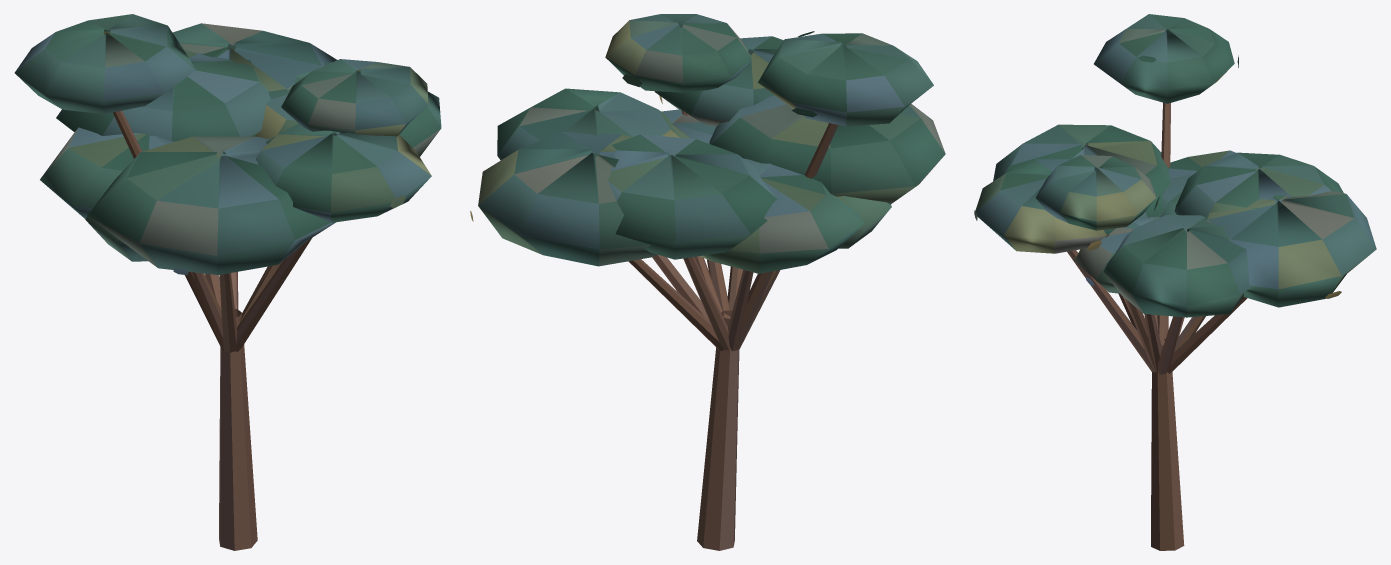
Rendered from HK_Tree_Pine.lod.glb.
3 renders of one model, left to right at view 1: azimuth 30°, elevation 25°; view 2: azimuth 150°, elevation 25°; view 3: azimuth 270°, elevation 25°, orthographic. The views are drawn at different scales.
Visible parts, largest first — view 1: HK_Tree_Pine; view 2: HK_Tree_Pine; view 3: HK_Tree_Pine.
Part boxes in pixels (x1=…): HK_Tree_Pine: x1=14, y1=14, x2=441, y2=550; HK_Tree_Pine: x1=470, y1=14, x2=945, y2=550; HK_Tree_Pine: x1=974, y1=14, x2=1376, y2=550.
Bounding box in the file's own units: 5.31 × 6.57 × 5.17.
